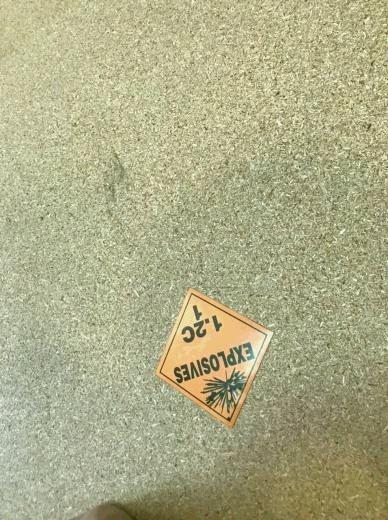explosive: (155, 286, 275, 431)
